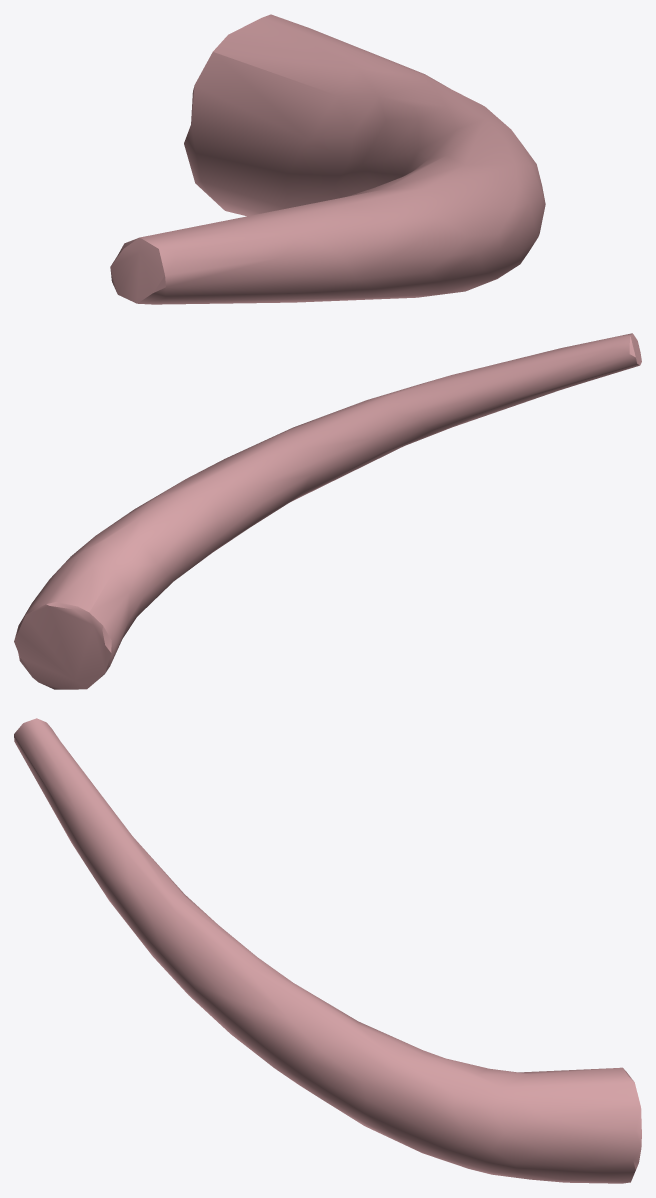
File: fma68222_fj2443.glb
3 views of the same model, one above another, from view 1: azimuth 30°, elevation 25°; view 2: azimuth 150°, elevation 25°; view 3: azimuth 270°, elevation 25° (orthographic). The views are drawn at different scales.
Parts seen in each view (by area): view 1: FMA68222_FJ2443; view 2: FMA68222_FJ2443; view 3: FMA68222_FJ2443.
Part boxes in pixels (left/top/right/bottom): FMA68222_FJ2443: left=110, top=14, right=545, bottom=304; FMA68222_FJ2443: left=14, top=333, right=641, bottom=689; FMA68222_FJ2443: left=14, top=718, right=641, bottom=1183.
Size of the model in its own units: 0.0388 by 0.024 by 0.0481.
